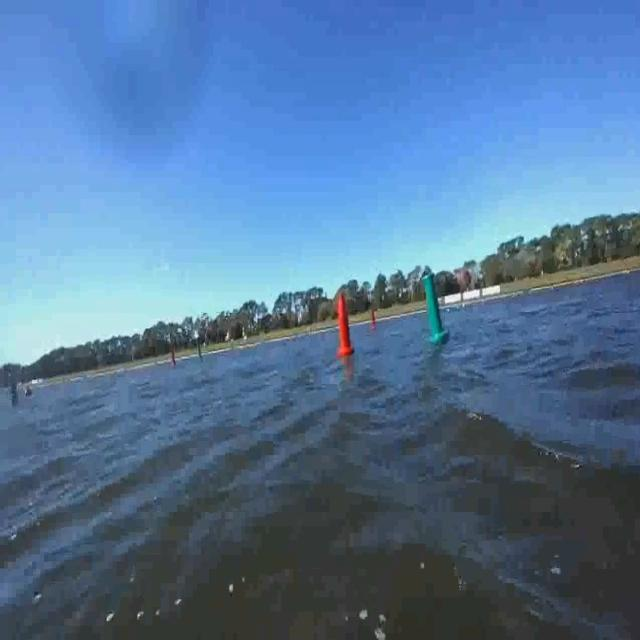green-column-buoy: (422, 276, 451, 344), (198, 340, 205, 362)
red-column-buoy: (336, 292, 356, 358), (170, 345, 178, 368), (369, 308, 376, 328)
